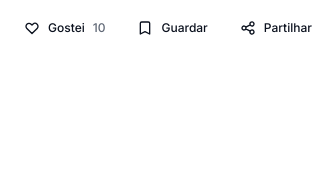
Test case: ContentActions › toggles like state on click
This screenshot has width=332, height=172.
Click the button "Gostei 10" at [65, 28], box 12,12 -> 118,44
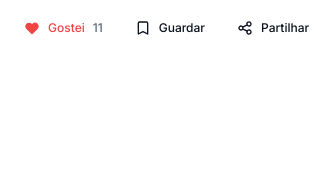
Check: the text "11" is shown, box 93,20 -> 103,36
